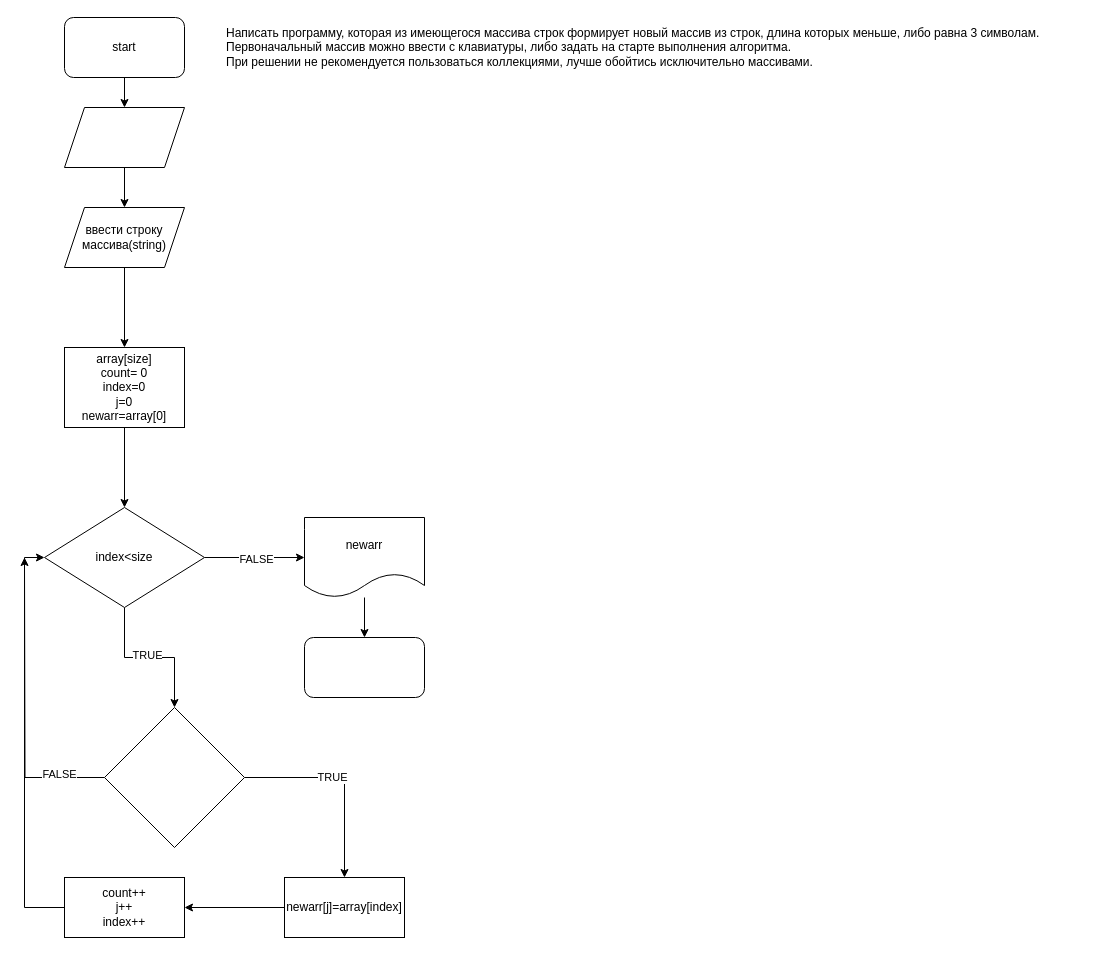
The diagram is 1102 pixels wide and 955 high, and some of its shapes have lost their labels. The box of each missing label's shape, as (x1, y1, x2, y2) in pixels:
array[index].Length<=3?: (104, 706, 244, 848)
Finish: (304, 636, 424, 698)
ввести размер массива( size): (64, 106, 184, 168)
